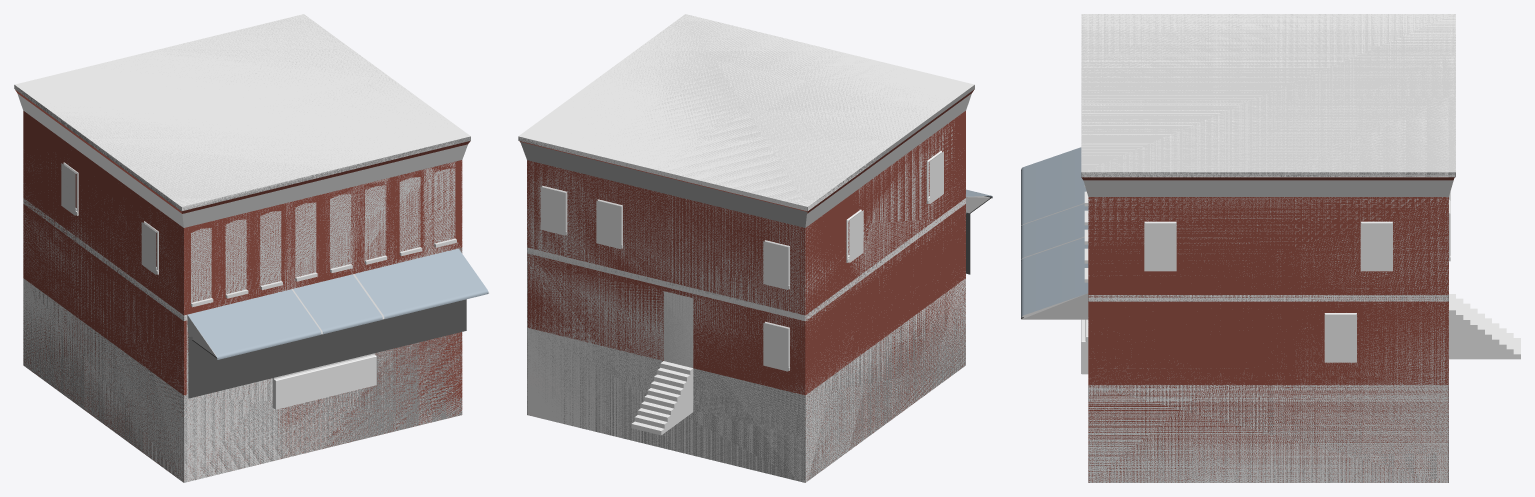
File: eca_bld_shop_town_e.dae
3 renders of one model, left to right at view 1: azimuth 30°, elevation 25°; view 2: azimuth 150°, elevation 25°; view 3: azimuth 270°, elevation 25°, orthographic. The views are drawn at different scales.
Parts seen in each view (by area): view 1: eca_bld_shop_town_e_a700, eca_bld_shop_town_e_a100, Colmesh-1, eca_bld_shop_town_e_a20; view 2: eca_bld_shop_town_e_a700, Colmesh-1, eca_bld_shop_town_e_a100, eca_bld_shop_town_e_a20; view 3: eca_bld_shop_town_e_a700, Colmesh-1, eca_bld_shop_town_e_a100, eca_bld_shop_town_e_a20.
Boxes of the visible parts, x1,y1,x2,y2 form: eca_bld_shop_town_e_a700: (14,14,488,482); eca_bld_shop_town_e_a100: (14,85,470,482); Colmesh-1: (17,14,489,482); eca_bld_shop_town_e_a20: (23,152,466,480); eca_bld_shop_town_e_a700: (518,14,992,482); Colmesh-1: (520,14,989,482); eca_bld_shop_town_e_a100: (518,85,992,482); eca_bld_shop_town_e_a20: (805,121,970,480); eca_bld_shop_town_e_a700: (1021,14,1520,482); Colmesh-1: (1021,14,1455,482); eca_bld_shop_town_e_a100: (1022,172,1520,482); eca_bld_shop_town_e_a20: (1088,197,1448,482).
Bounding box in the file's own units: 10.4 × 13.87 × 9.6.
